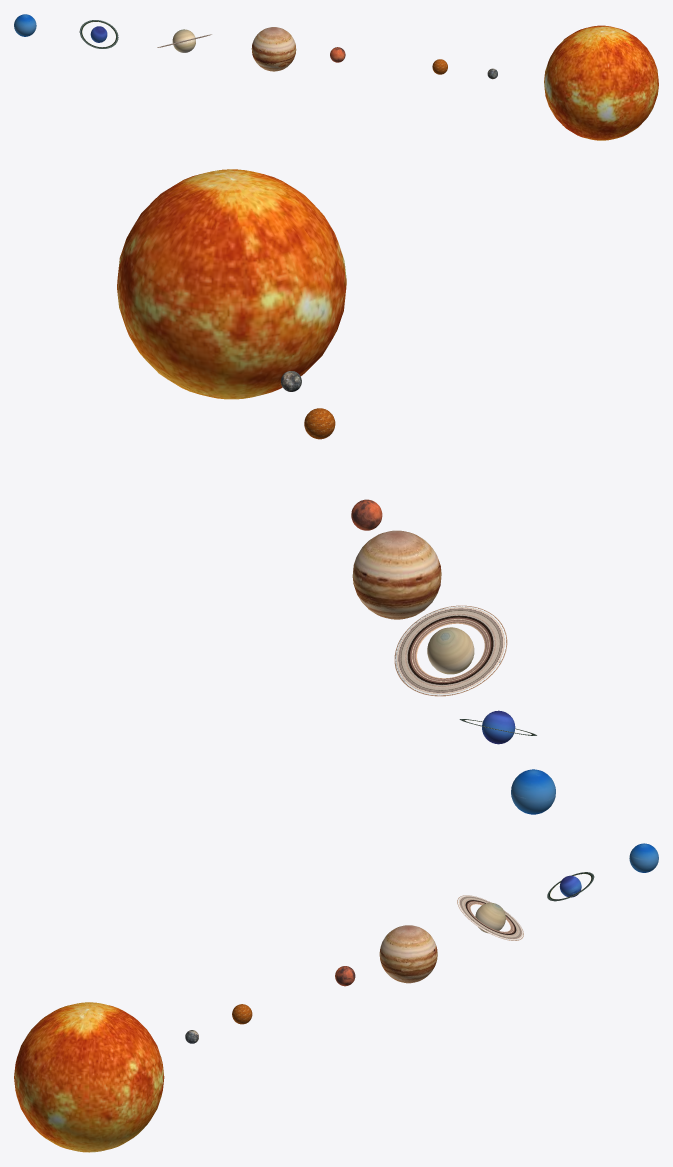
Rendered from mppn shadow.glb.
3 renders of one model, top to bottom at view 1: azimuth 30°, elevation 25°; view 2: azimuth 150°, elevation 25°; view 3: azimuth 270°, elevation 25°, orthographic. The views are drawn at different scales.
Parts seen in each view (by area): view 1: sun, jupiter, SATURN, uranus ring, neptune; view 2: sun, SATURN, jupiter, neptune, uranus ring; view 3: sun, jupiter, SATURN, neptune, uranus ring.
Part boxes in pixels (x1,y1,x2,y2): sun: (544,25,658,140); jupiter: (251,27,296,71); SATURN: (157,29,211,52); uranus ring: (79,20,118,48); neptune: (14,14,36,36); sun: (117,169,346,399); SATURN: (394,605,507,696); jupiter: (352,530,441,619); neptune: (511,769,555,814); uranus ring: (459,710,536,744); sun: (14,1002,164,1152); jupiter: (379,925,437,983); SATURN: (457,895,523,940); neptune: (629,843,658,872); uranus ring: (547,872,594,901).
Size of the model in its own units: 75.43 by 17.78 by 76.3.
Materials: 16 (12 with a texture image).
